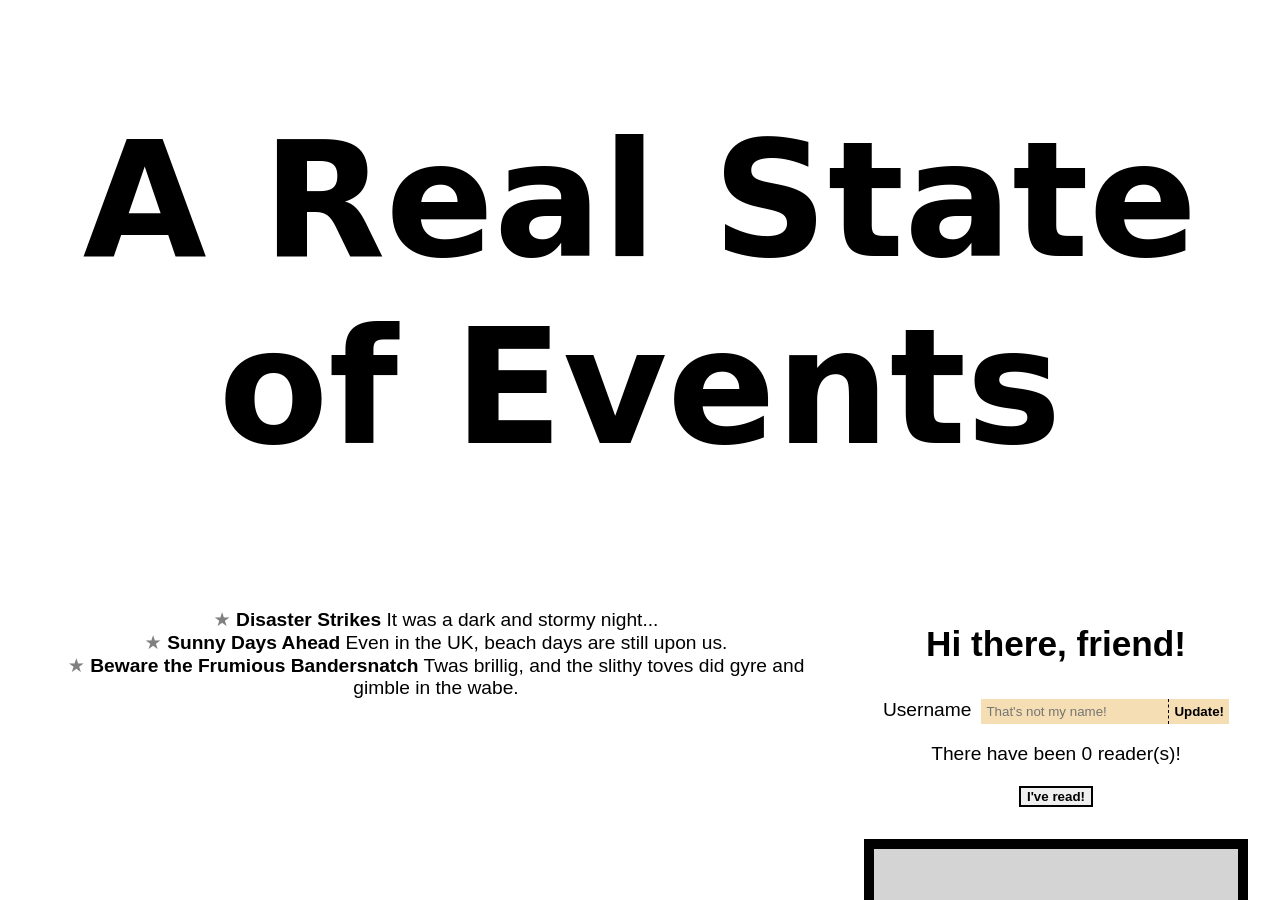
Test: App › greets a user by name when user submits name
The width and height of the screenshot is (1280, 900).
Type "Beth" into the field labelled "Username".
click(1075, 711); type("Beth")  # box [981,699,1168,724]
Then press Enter
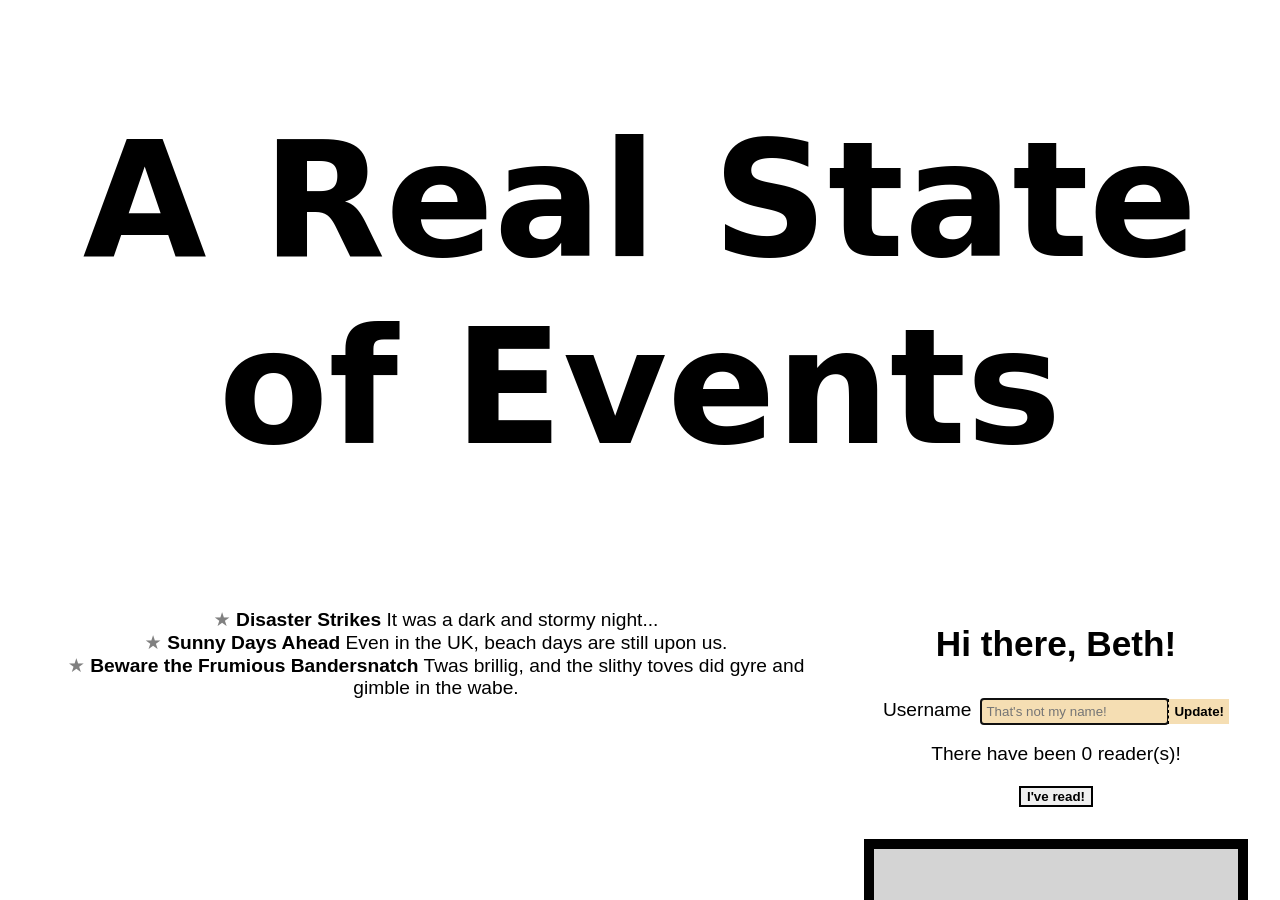
Check: the heading named "greeting" reads "Hi there, Beth!", box [936,624,1176,663]
